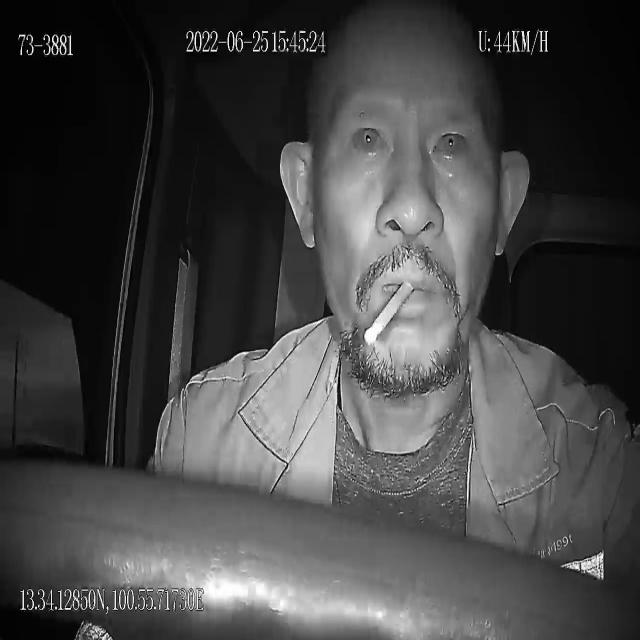Cigarette: (364, 283, 414, 347)
